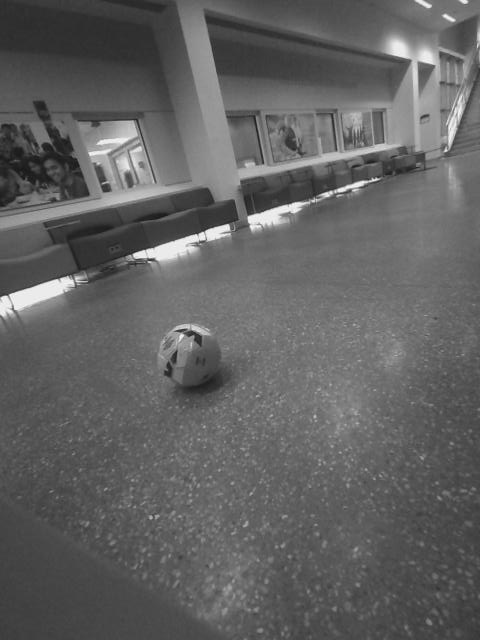ball: (152, 319, 230, 388)
